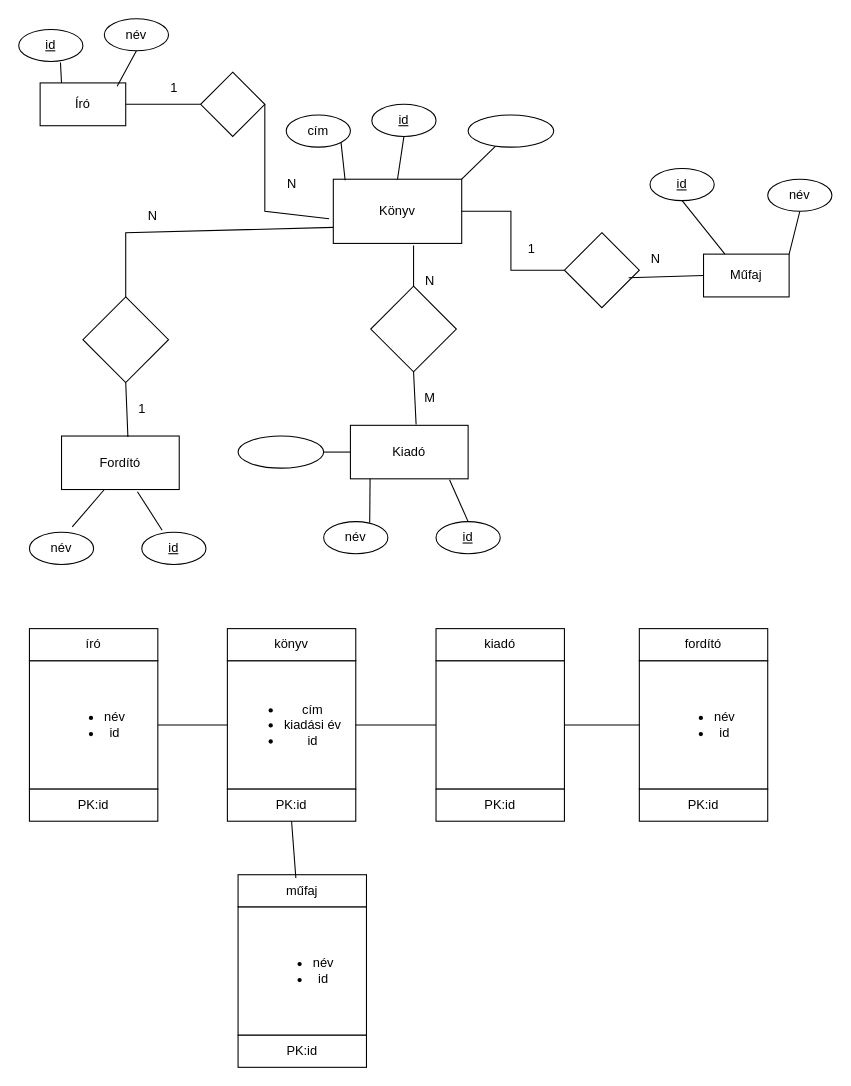
Image size: 851x1086. Some labels were removed from this diagram. Here are the shapes that lost their labels. From the top down, the centre of each, then its label:
At [232,103]: "Írta".
At [510,130]: "kötés".
At [601,270]: "műfaja".
At [125,339]: "Forditotta".
At [413,328]: "Kiadta".
At [280,451]: "kiadasi év".
At [499,724]: "név id kiadási év".
